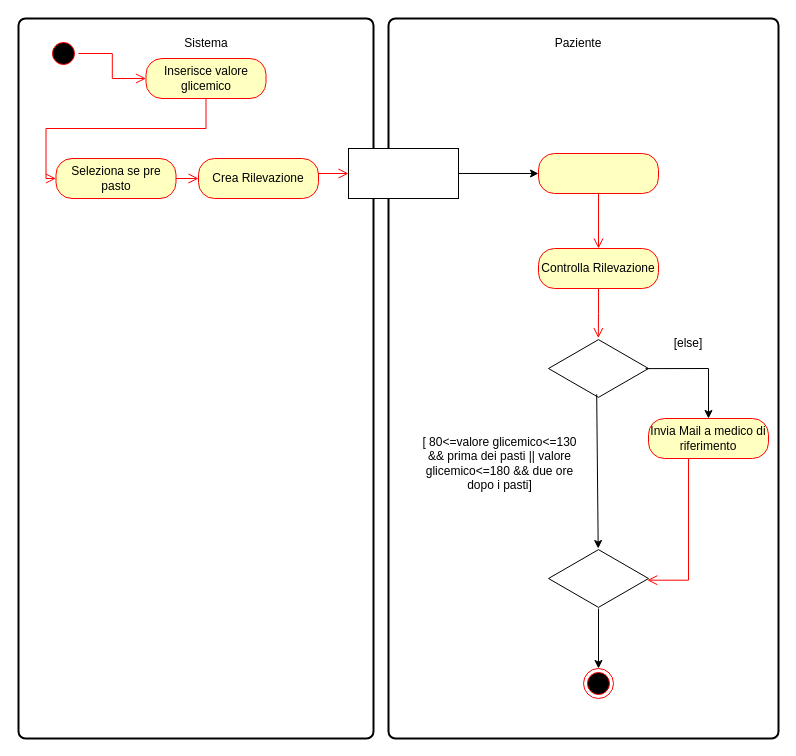
Some shapes in this 796 by 756 pixel diagram are drawn without their labels. The shapes that lost their labels are listed below. From the top down, each one's centre as x and y in pixels, then its label:
At (x=403, y=173): "Rilevazione".
At (x=598, y=173): "Inserisci Rilevazione".
